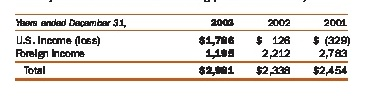table: (0, 0, 371, 96)
